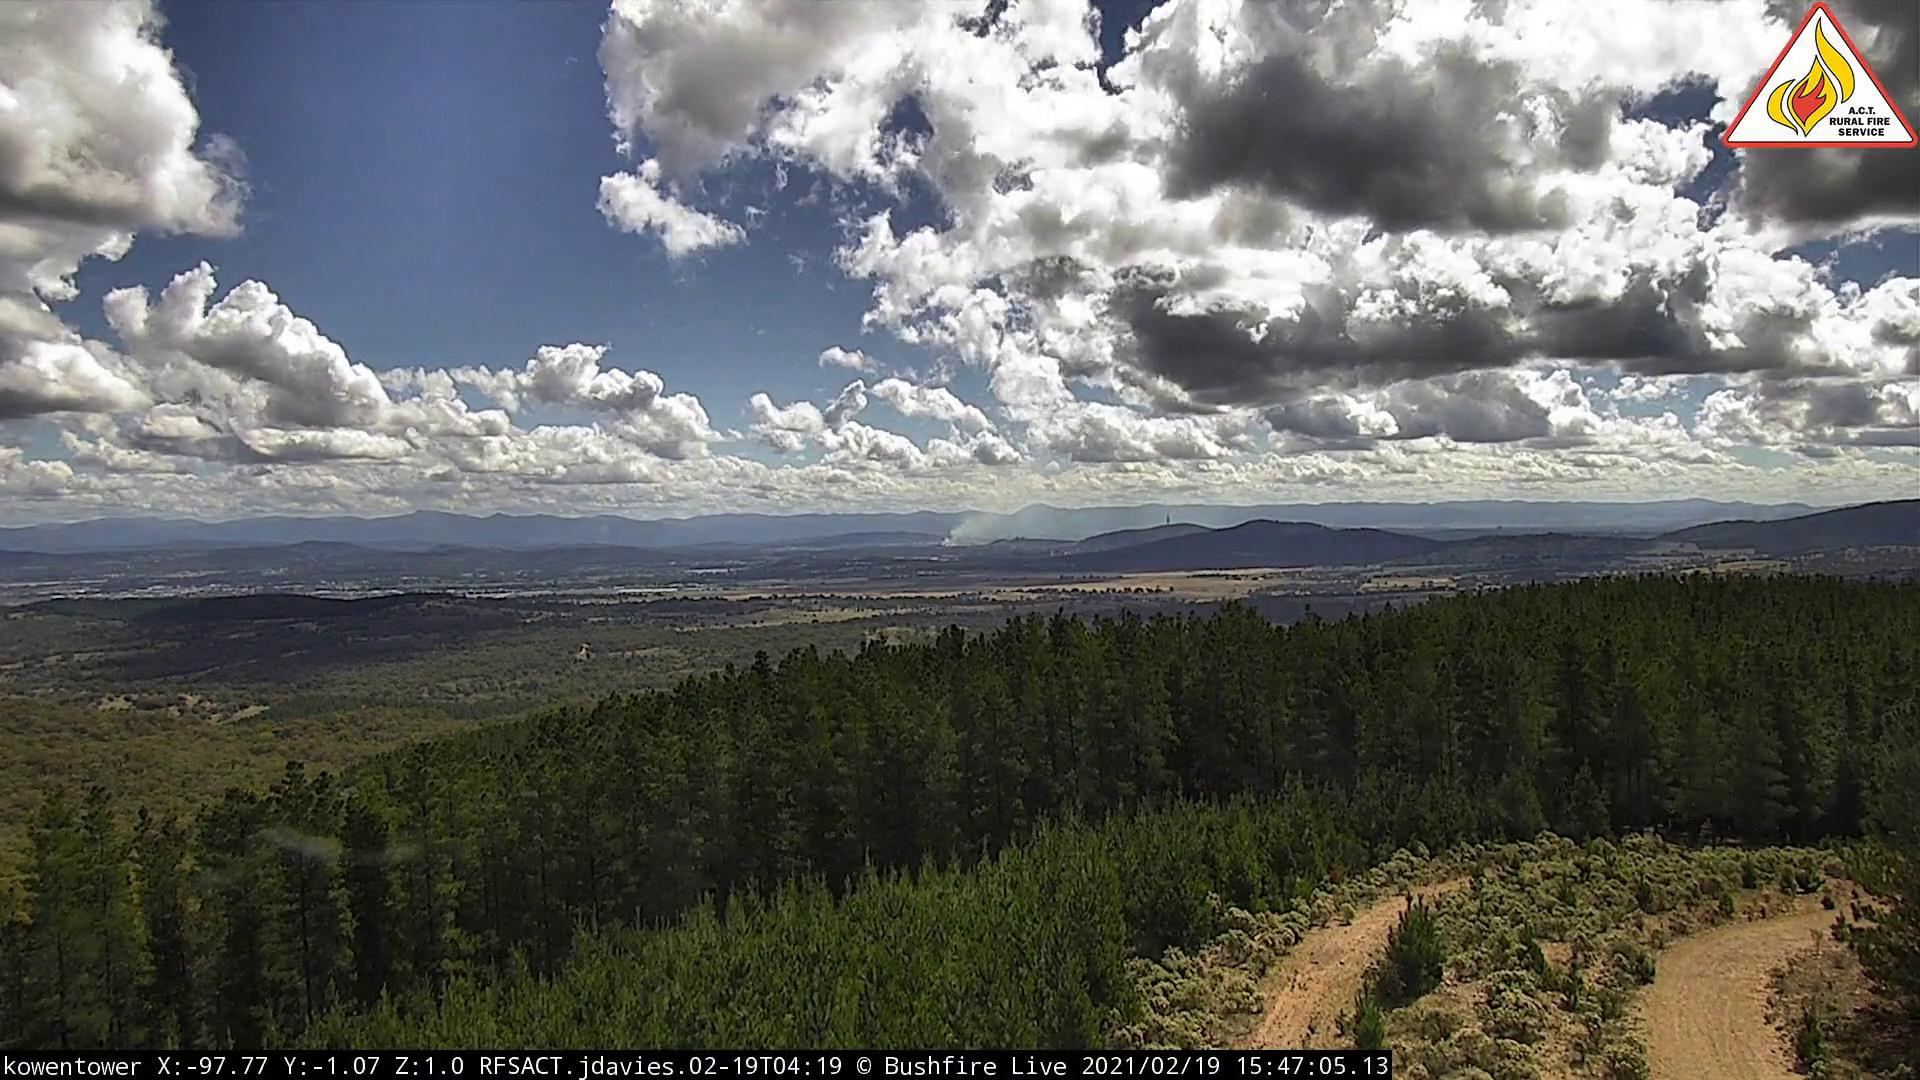Smoke: (942, 510, 1010, 550), (593, 525, 618, 554)
